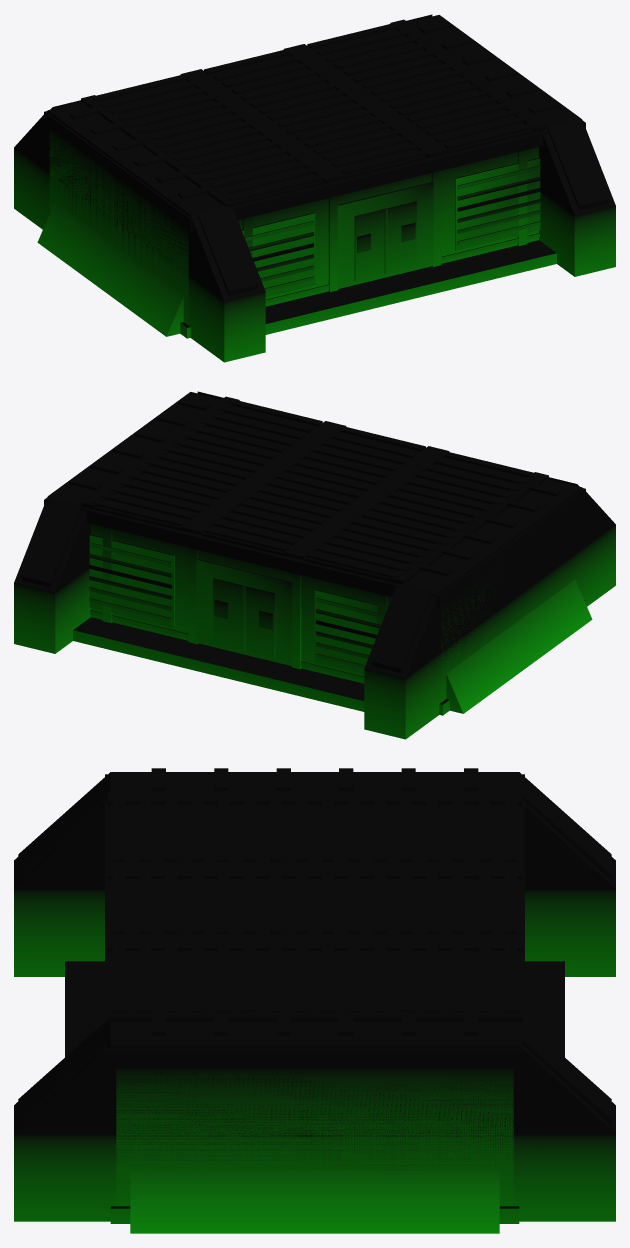
Rendered from rpbuilding.glb.
3 renders of one model, top to bottom at view 1: azimuth 30°, elevation 25°; view 2: azimuth 150°, elevation 25°; view 3: azimuth 270°, elevation 25°, orthographic. The views are drawn at different scales.
Parts seen in each view (by area): view 1: lod0; view 2: lod0; view 3: lod0.
Boxes of the visible parts, x1,y1,x2,y2 form: lod0: (14,14,615,362); lod0: (14,391,615,739); lod0: (14,768,615,1233).
Size of what is drawn, in the model's own units: 24.8 by 7.17 by 21.2.
